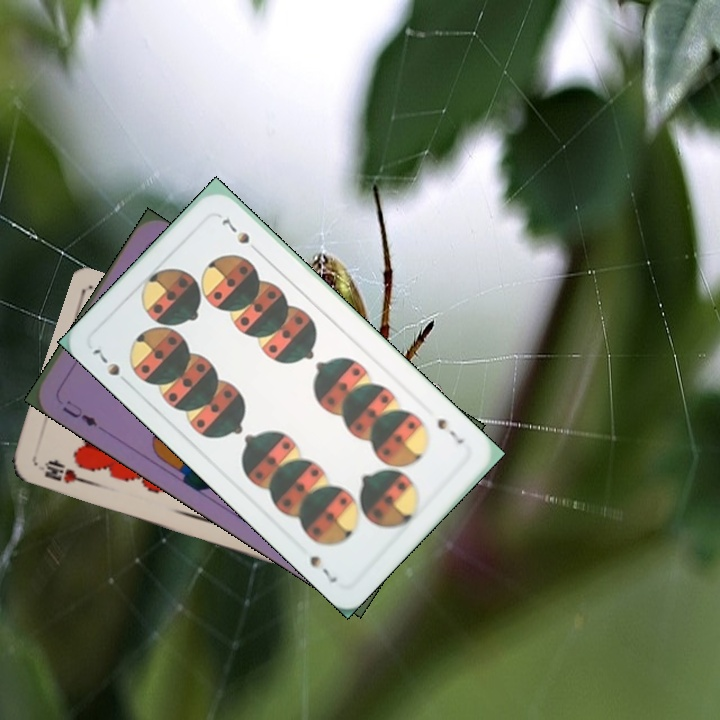EU: (58, 396, 100, 429)
H10: (40, 456, 90, 487)
S7: (87, 344, 134, 389), (433, 414, 467, 447)
